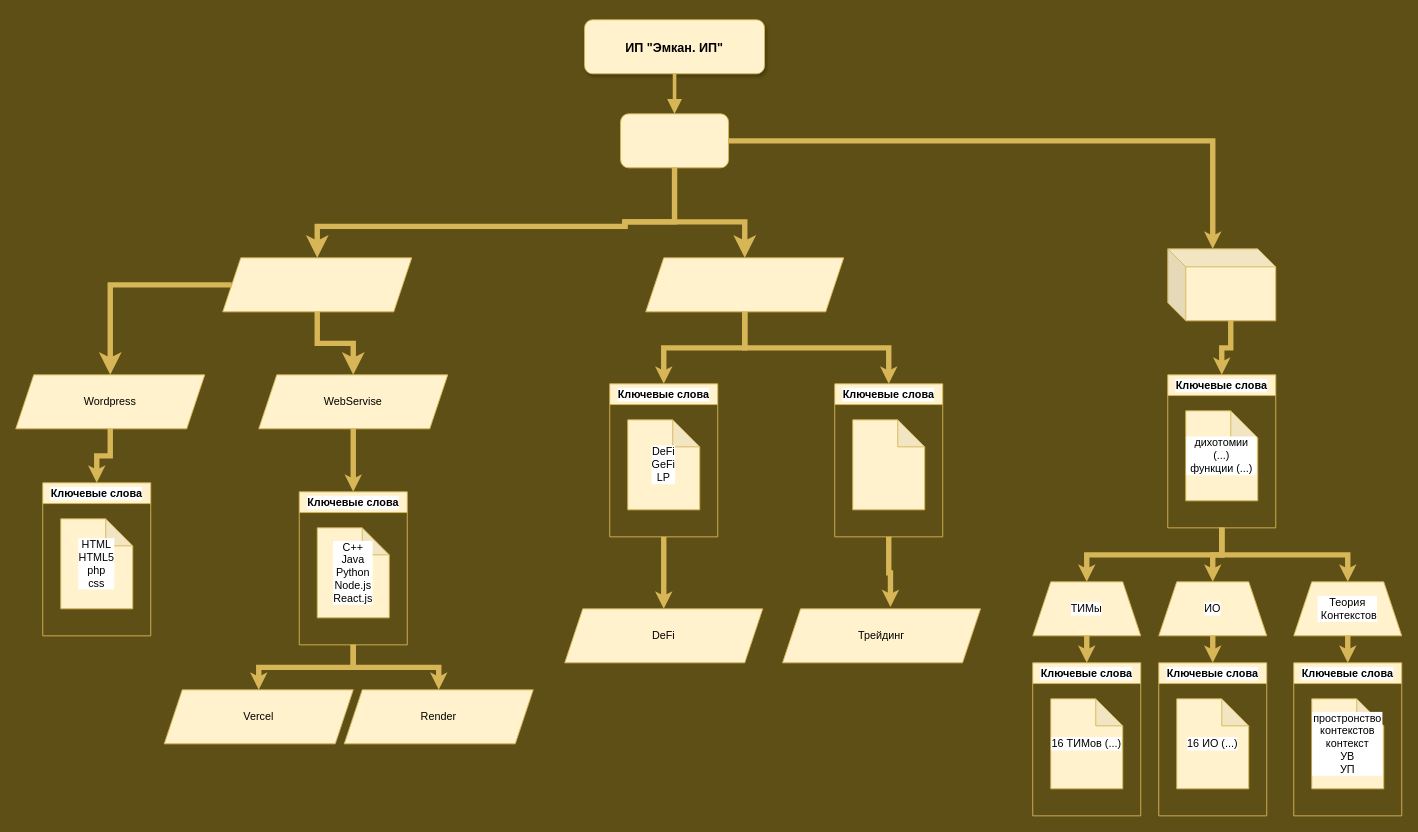
Image size: 1418x832. Some labels were removed from this diagram. The shapes that lost their labels are listed below. From the top down, each one's centre as x and y in pixels, then its label:
At point 674,140: "Информационные потоки (ИП)".
At point 317,284: "Программирование".
At point 744,284: "Крипто".
At point 1221,284: "Соционика".
